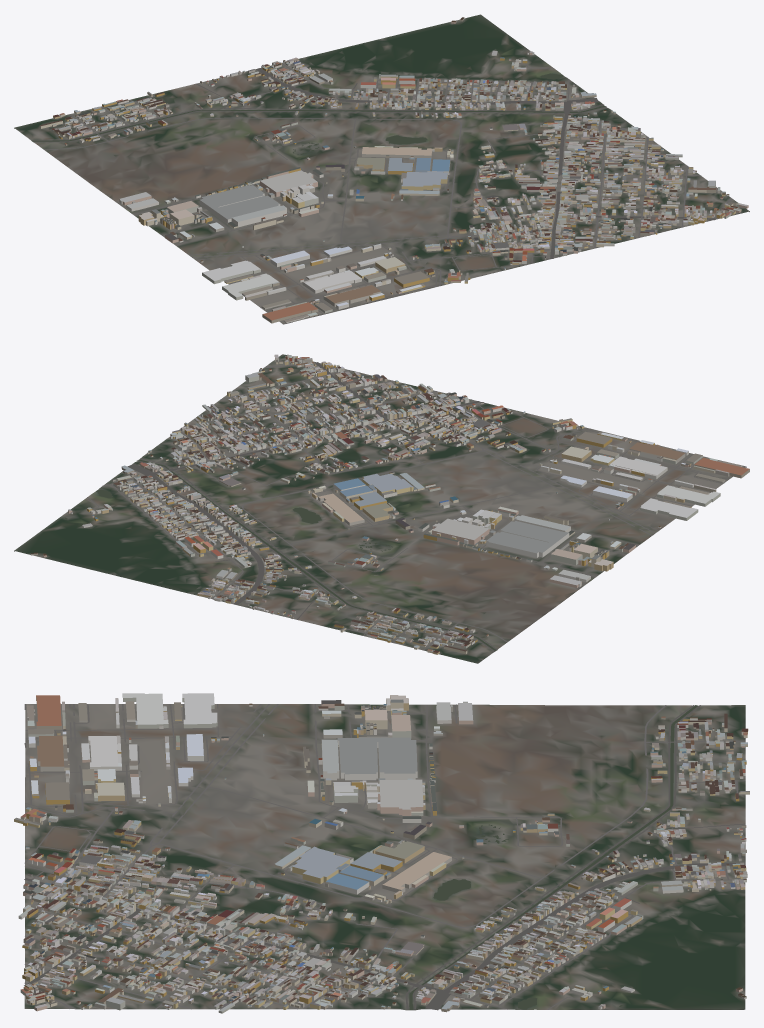
The picture shows the model from 3 angles, top to bottom: view 1: azimuth 30°, elevation 25°; view 2: azimuth 150°, elevation 25°; view 3: azimuth 270°, elevation 25°; orthographic projection. The views are drawn at different scales.
Parts seen in each view (by area): view 1: ground, buildings, roads, water; view 2: ground, buildings, roads, water; view 3: ground, buildings, roads, water.
Boxes of the visible parts, x1,y1,x2,y2 form: ground: [14, 14, 749, 323]; buildings: [39, 17, 748, 323]; roads: [31, 63, 732, 324]; water: [32, 49, 605, 154]; ground: [14, 354, 746, 663]; buildings: [30, 354, 749, 654]; roads: [87, 362, 746, 651]; water: [65, 459, 496, 650]; ground: [24, 704, 745, 1010]; buildings: [14, 693, 749, 1013]; roads: [24, 704, 745, 1010]; water: [409, 705, 697, 1009].
Bounding box in the file's own units: 1451 × 30.39 × 1431.
